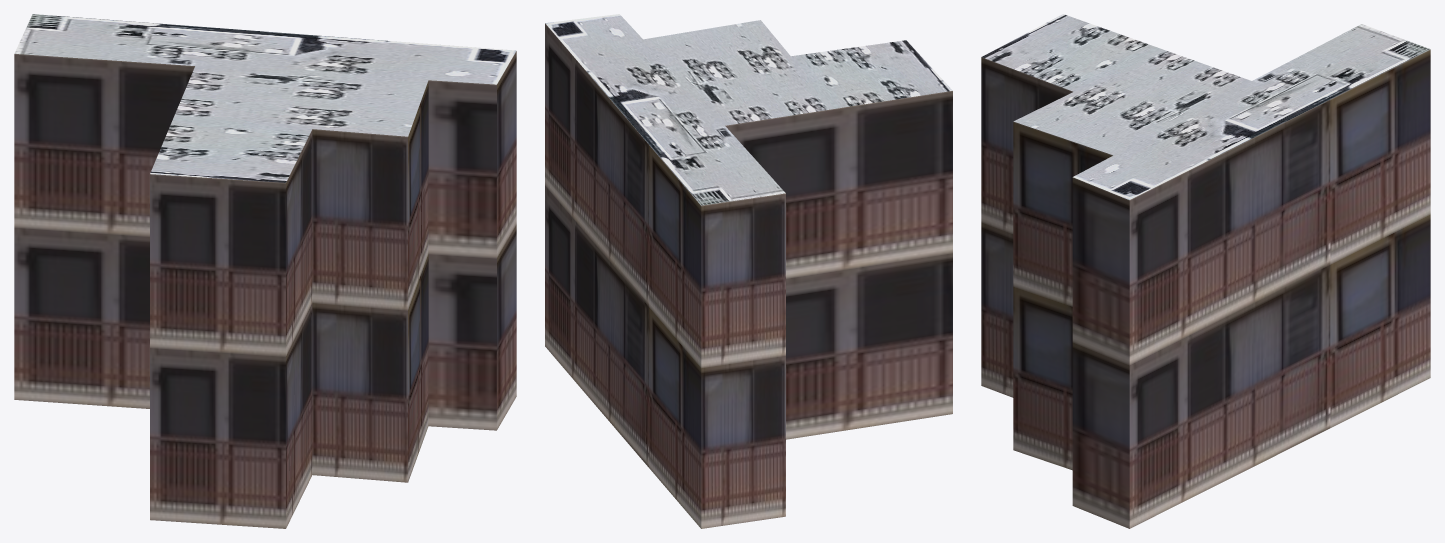
The model's file is ResTex__2280.fbx.
3 renders of one model, left to right at view 1: azimuth 30°, elevation 25°; view 2: azimuth 150°, elevation 25°; view 3: azimuth 270°, elevation 25°, orthographic. The views are drawn at different scales.
Visible parts, largest first — view 1: CityEngineMaterial_6_m, CityEngineMaterial_4_m; view 2: CityEngineMaterial_6_m, CityEngineMaterial_4_m; view 3: CityEngineMaterial_6_m, CityEngineMaterial_4_m.
Part boxes in pixels (left/top/right/bottom): CityEngineMaterial_6_m: left=14, top=51, right=516, bottom=528; CityEngineMaterial_4_m: left=14, top=14, right=516, bottom=182; CityEngineMaterial_6_m: left=545, top=23, right=952, bottom=528; CityEngineMaterial_4_m: left=545, top=14, right=952, bottom=205; CityEngineMaterial_6_m: left=981, top=49, right=1430, bottom=528; CityEngineMaterial_4_m: left=982, top=14, right=1430, bottom=199.
Bounding box in the file's own units: 7.29 × 6 × 7.43.
Materials: 2 (2 with a texture image).
